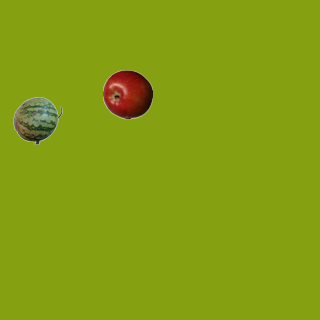Apple Braeburn: (102, 69, 152, 119)
Watermelon: (12, 95, 62, 145)
